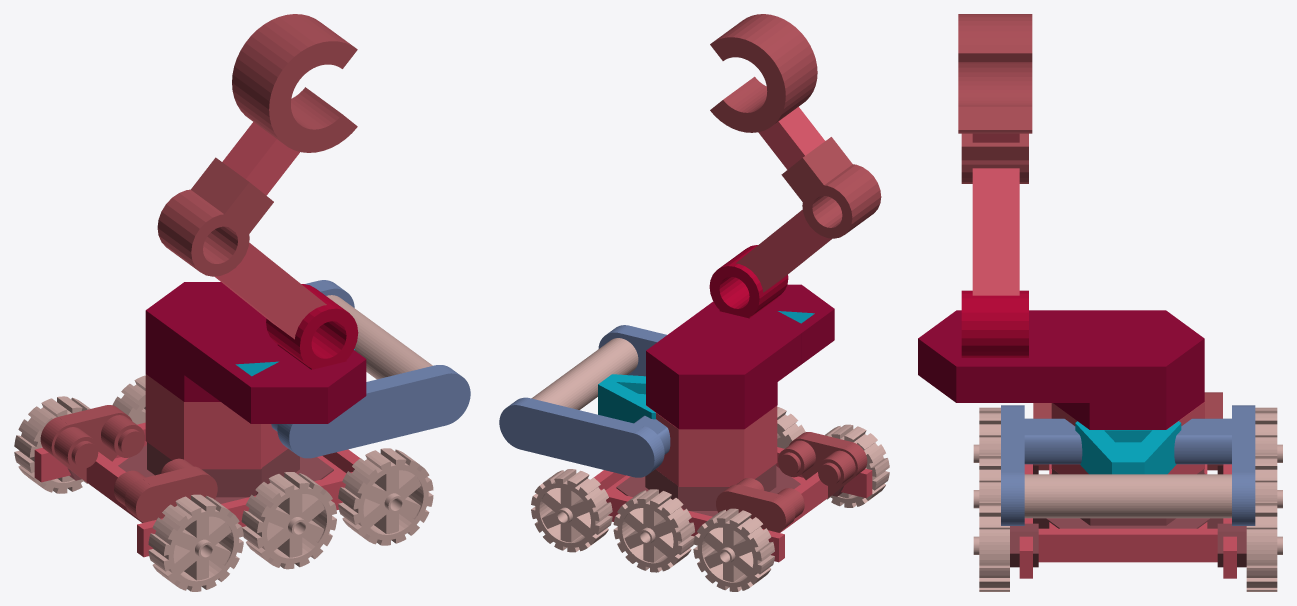
Rendered from bot-westcoast-red-manipulator.glb.
3 renders of one model, left to right at view 1: azimuth 30°, elevation 25°; view 2: azimuth 150°, elevation 25°; view 3: azimuth 270°, elevation 25°, orthographic. The views are drawn at different scales.
Visible parts, largest first — view 1: Mesh_Mesh_head_geo.001_lambert2SG.001; view 2: Mesh_Mesh_head_geo.001_lambert2SG.001; view 3: Mesh_Mesh_head_geo.001_lambert2SG.001.
Boxes of the visible parts, x1=… form: Mesh_Mesh_head_geo.001_lambert2SG.001: x1=14, y1=14, x2=470, y2=591; Mesh_Mesh_head_geo.001_lambert2SG.001: x1=499, y1=14, x2=889, y2=591; Mesh_Mesh_head_geo.001_lambert2SG.001: x1=918, y1=14, x2=1282, y2=591.
Size of the model in its own units: 0.0273 by 0.0433 by 0.0271.
